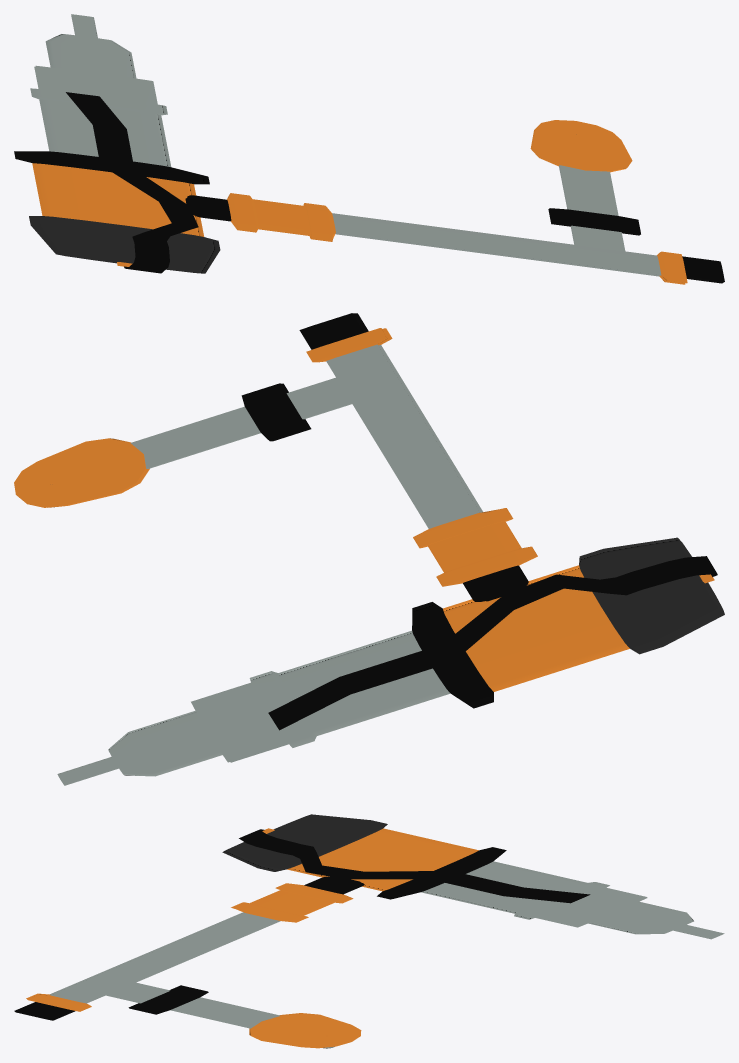
File: Environment2_Misc_LaserMachine.fbx
The picture shows the model from 3 angles, top to bottom: view 1: azimuth 30°, elevation 25°; view 2: azimuth 150°, elevation 25°; view 3: azimuth 270°, elevation 25°; orthographic projection. The views are drawn at different scales.
Visible parts, largest first — view 1: Machine head, Machine Joint 3, Machine joint2; view 2: Machine head, Machine Joint 3, Machine joint2; view 3: Machine head, Machine Joint 3, Machine joint2.
Part boxes in pixels (x1,y1,x2,y2): Machine head: (14, 14, 220, 273); Machine Joint 3: (185, 193, 724, 284); Machine joint2: (530, 120, 640, 251); Machine head: (57, 537, 724, 785); Machine Joint 3: (299, 313, 537, 601); Machine joint2: (14, 377, 351, 507); Machine head: (222, 814, 724, 939); Machine Joint 3: (14, 876, 364, 1020); Machine joint2: (106, 982, 361, 1048).
Bounding box in the file's own units: 177 × 8.2 × 242.
